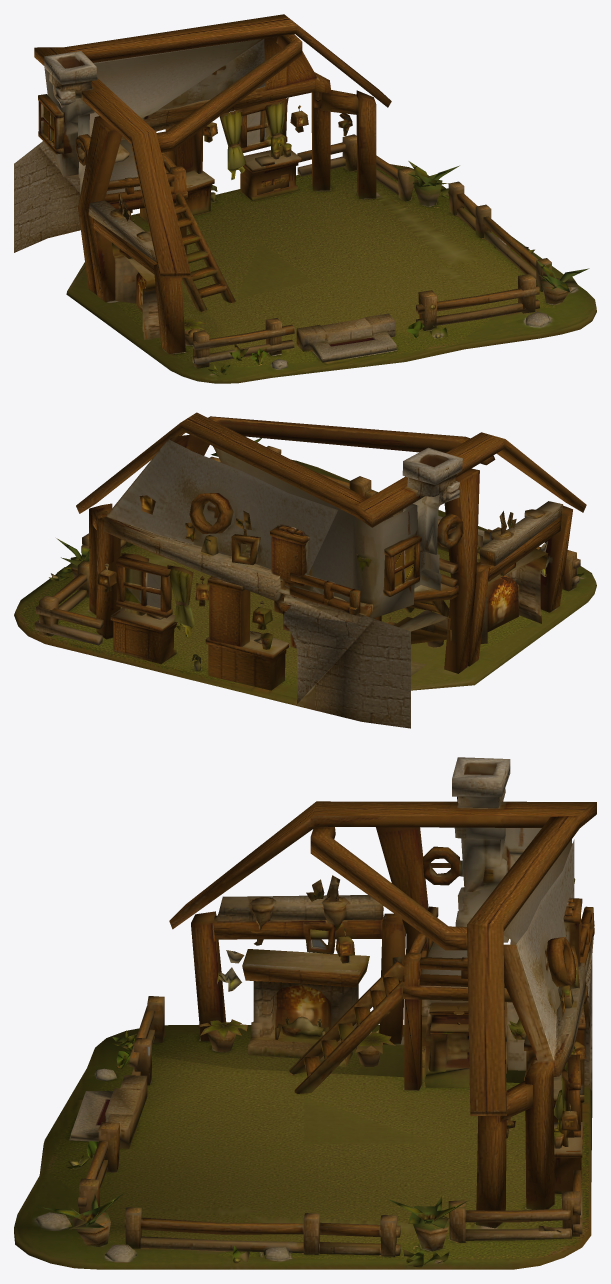
Rendered from New+interior+3d+model.fbx.
3 views of the same model, one above another, from view 1: azimuth 30°, elevation 25°; view 2: azimuth 150°, elevation 25°; view 3: azimuth 270°, elevation 25° (orthographic). The views are drawn at different scales.
Parts seen in each view (by area): view 1: tripo_node_a1c8620d-8d1d-4212-8bf5-655f69ee5211; view 2: tripo_node_a1c8620d-8d1d-4212-8bf5-655f69ee5211; view 3: tripo_node_a1c8620d-8d1d-4212-8bf5-655f69ee5211.
Part boxes in pixels (left/top/right/bottom): tripo_node_a1c8620d-8d1d-4212-8bf5-655f69ee5211: left=14, top=14, right=596, bottom=383; tripo_node_a1c8620d-8d1d-4212-8bf5-655f69ee5211: left=14, top=412, right=596, bottom=728; tripo_node_a1c8620d-8d1d-4212-8bf5-655f69ee5211: left=14, top=757, right=596, bottom=1269.
Size of the model in its own units: 0.9941 by 0.5176 by 0.998.
1 material, 1 textured.
